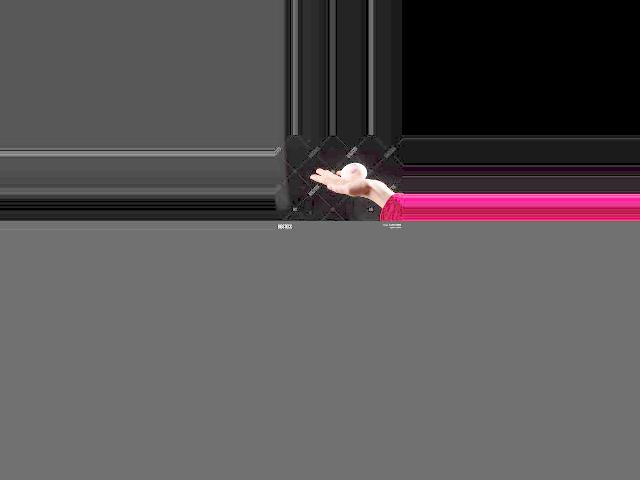egg: (341, 163, 367, 180)
